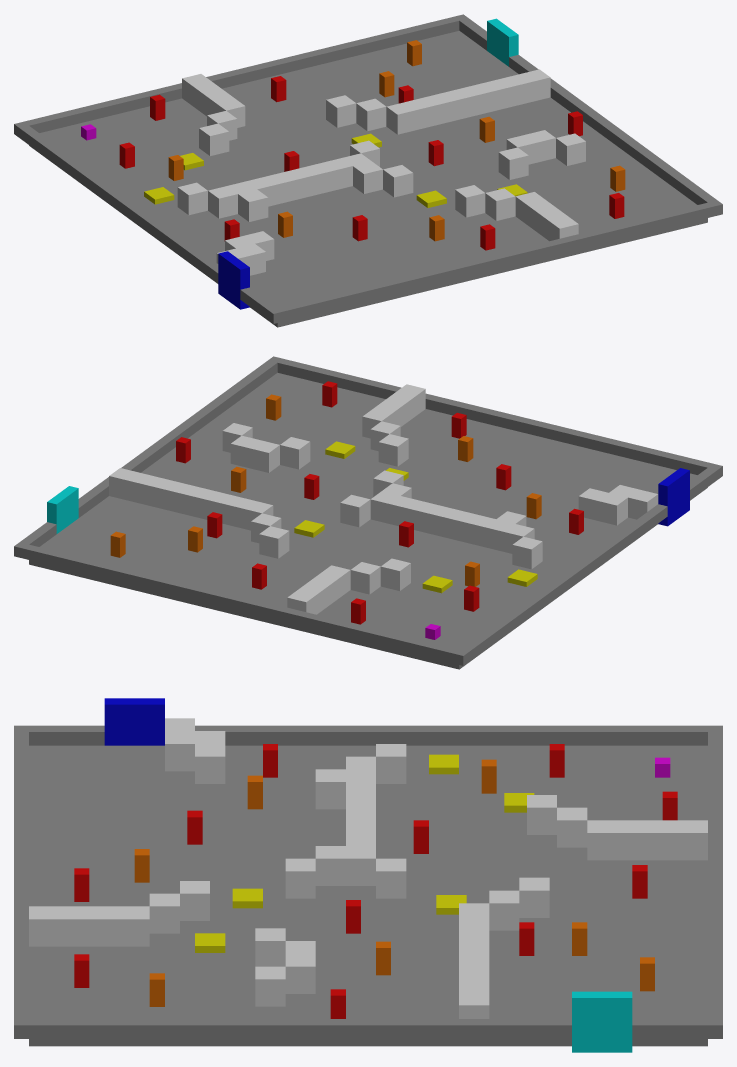
File: level1_b8V2C_45.fbx
The picture shows the model from 3 angles, top to bottom: view 1: azimuth 30°, elevation 25°; view 2: azimuth 150°, elevation 25°; view 3: azimuth 270°, elevation 25°; orthographic projection. The views are drawn at different scales.
Visible parts, largest first — view 1: pCube6, pCube29, pCube5, pCube4; view 2: pCube6, pCube29, pCube5, pCube4; view 3: pCube6, pCube29, pCube4, pCube5, Trap1, Trap4, Trap.
Boxes of the visible parts, left/top/right/bottom form: pCube6: left=14, top=14, right=722, bottom=327; pCube29: left=177, top=69, right=585, bottom=275; pCube5: left=218, top=251, right=249, bottom=309; pCube4: left=487, top=18, right=518, bottom=66; pCube6: left=14, top=356, right=722, bottom=669; pCube29: left=109, top=384, right=658, bottom=614; pCube5: left=658, top=468, right=689, bottom=526; pCube4: left=47, top=486, right=78, bottom=533; pCube6: left=14, top=725, right=722, bottom=1046; pCube29: left=29, top=718, right=707, bottom=1018; pCube4: left=572, top=991, right=632, bottom=1052; pCube5: left=104, top=698, right=164, bottom=745; Trap1: left=232, top=888, right=262, bottom=908; Trap4: left=429, top=754, right=458, bottom=774; Trap: left=195, top=933, right=225, bottom=952.
Bounding box in the file's own units: 1850 × 177 × 1850.
